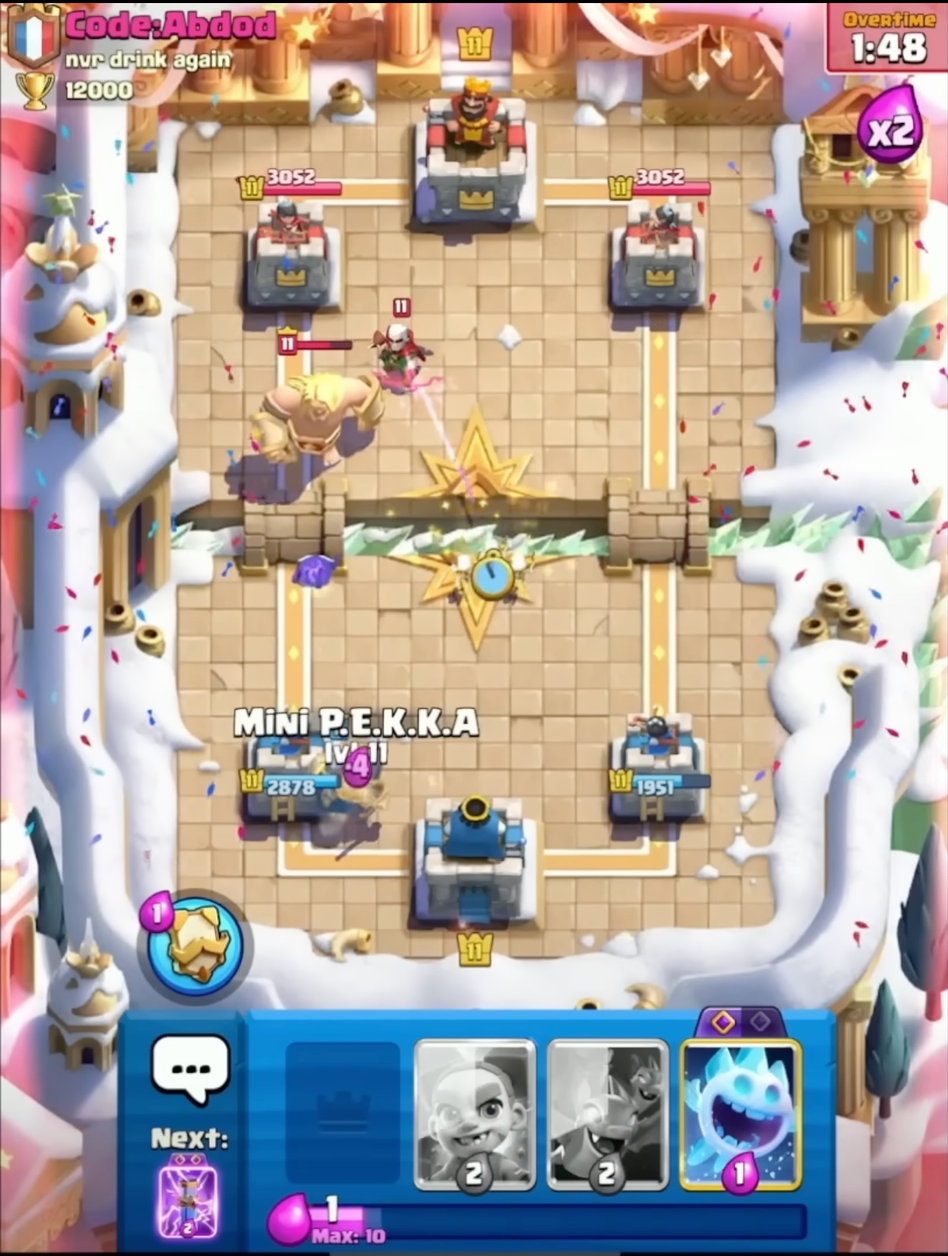hero-giant: (244, 323, 390, 479)
magic-archer: (367, 296, 447, 402)
